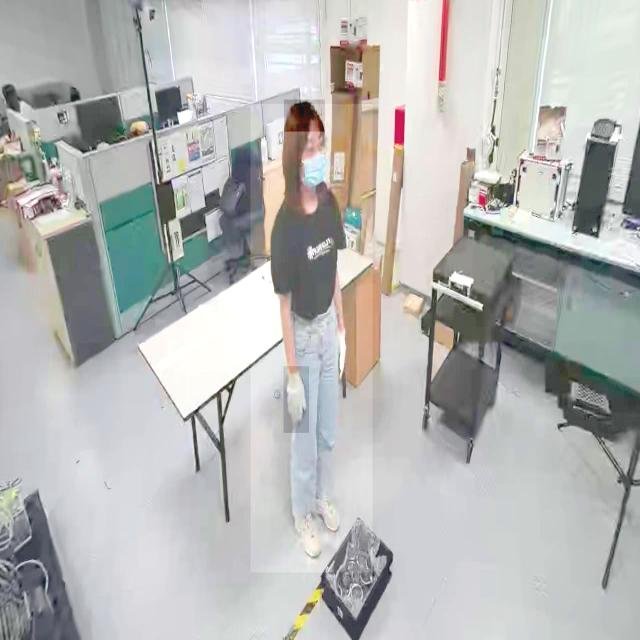face_mask: (296, 124, 332, 206)
hand_glove: (283, 366, 309, 434), (330, 322, 354, 377)
head_nohelmet: (283, 100, 325, 132)
person: (250, 104, 372, 573)
shoes: (293, 512, 322, 558), (314, 491, 341, 534)
